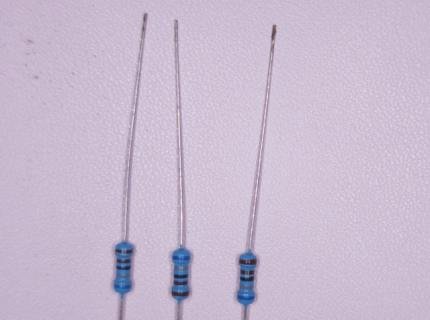Black band: (240, 277, 254, 281), (174, 274, 188, 278), (117, 266, 131, 270)
Blue band: (237, 294, 255, 300), (114, 284, 132, 289), (172, 256, 190, 260)
Brown band: (239, 258, 257, 265), (115, 248, 133, 254), (171, 290, 189, 296), (174, 280, 188, 285), (241, 270, 255, 275), (117, 259, 131, 263)
Grey band: (239, 284, 254, 289), (116, 273, 130, 278), (174, 266, 188, 270)
